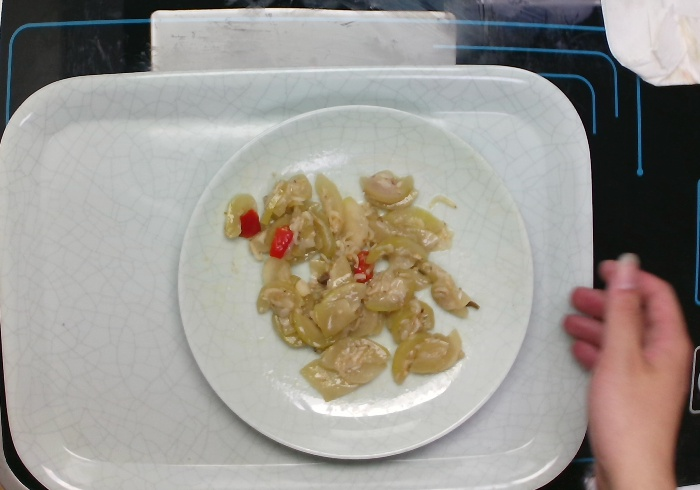JYsf-Da_Yuan_Pan: (175, 99, 539, 464)
